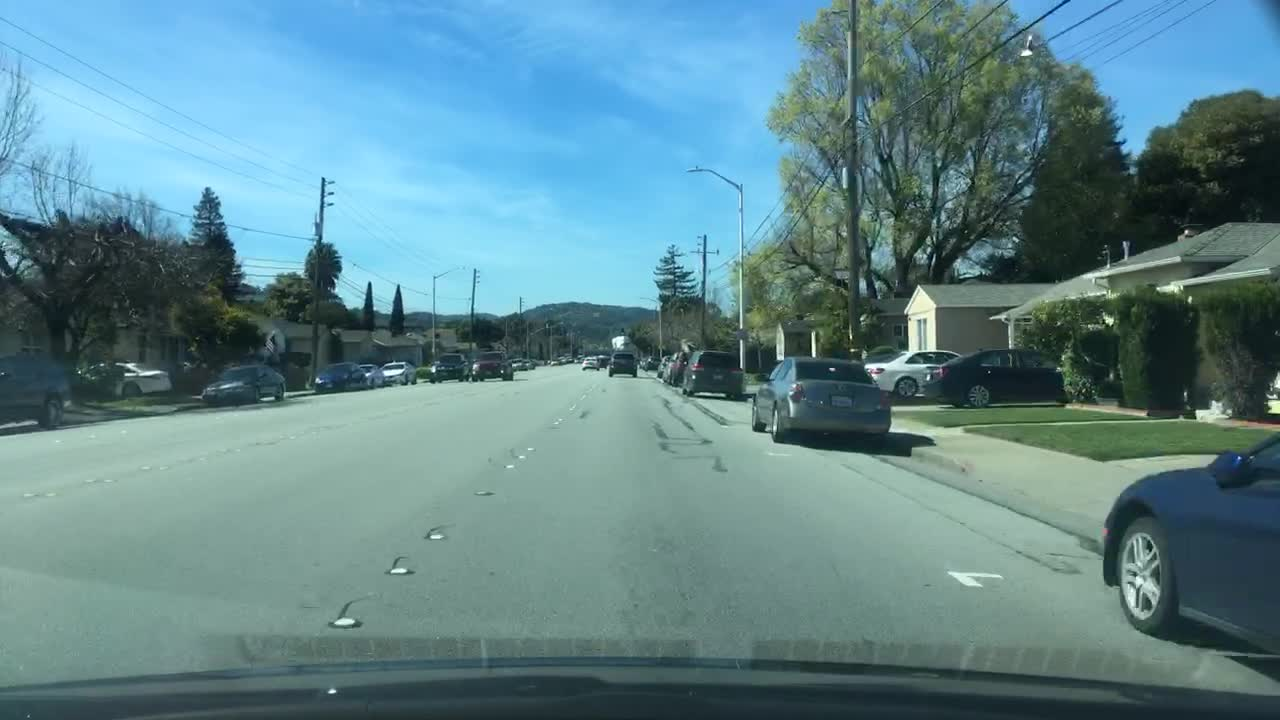car: (1100, 430, 1279, 653), (749, 354, 894, 440), (921, 347, 1068, 407), (0, 354, 74, 428), (865, 348, 965, 397), (678, 347, 746, 398), (199, 363, 287, 401), (79, 360, 173, 395), (312, 363, 368, 395), (469, 347, 514, 380), (427, 351, 469, 381), (377, 361, 416, 385), (668, 353, 695, 387), (607, 351, 639, 376), (361, 360, 383, 388), (663, 350, 680, 383), (654, 353, 673, 377), (582, 353, 600, 369), (646, 355, 663, 370), (509, 356, 526, 370), (597, 353, 610, 367), (524, 356, 536, 370), (639, 356, 649, 370)
truck: (609, 332, 633, 353)
